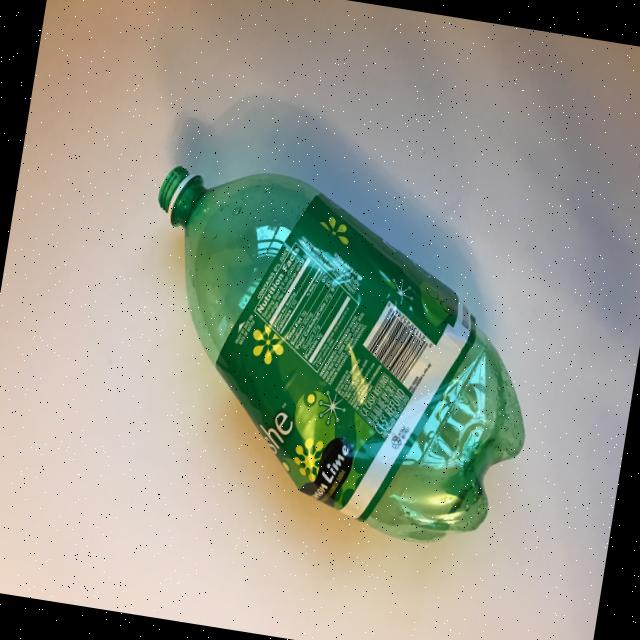plastic: (110, 155, 560, 558)
